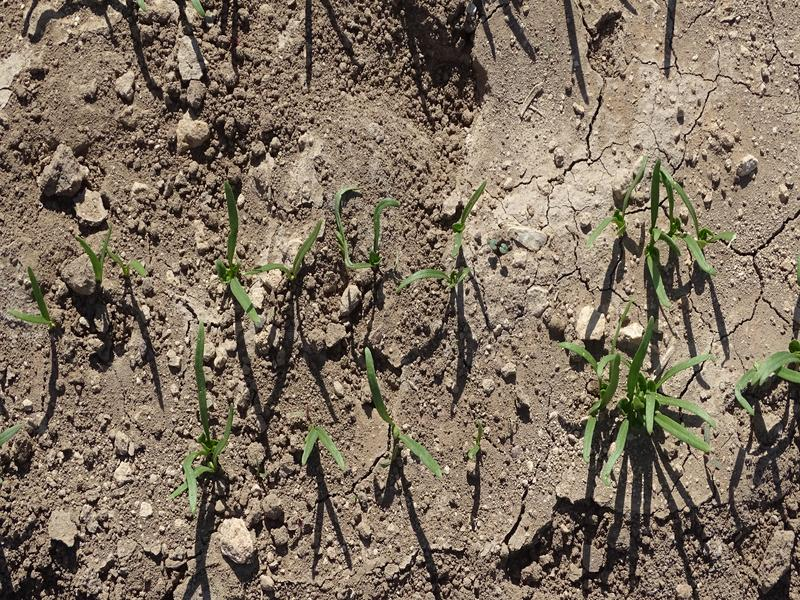Espinaca: (559, 318, 714, 468), (601, 176, 752, 304), (209, 178, 324, 315), (357, 346, 445, 476), (177, 327, 233, 505), (407, 183, 496, 292), (330, 191, 398, 269), (74, 220, 152, 284), (741, 343, 800, 404), (9, 265, 57, 325), (295, 422, 342, 472)
